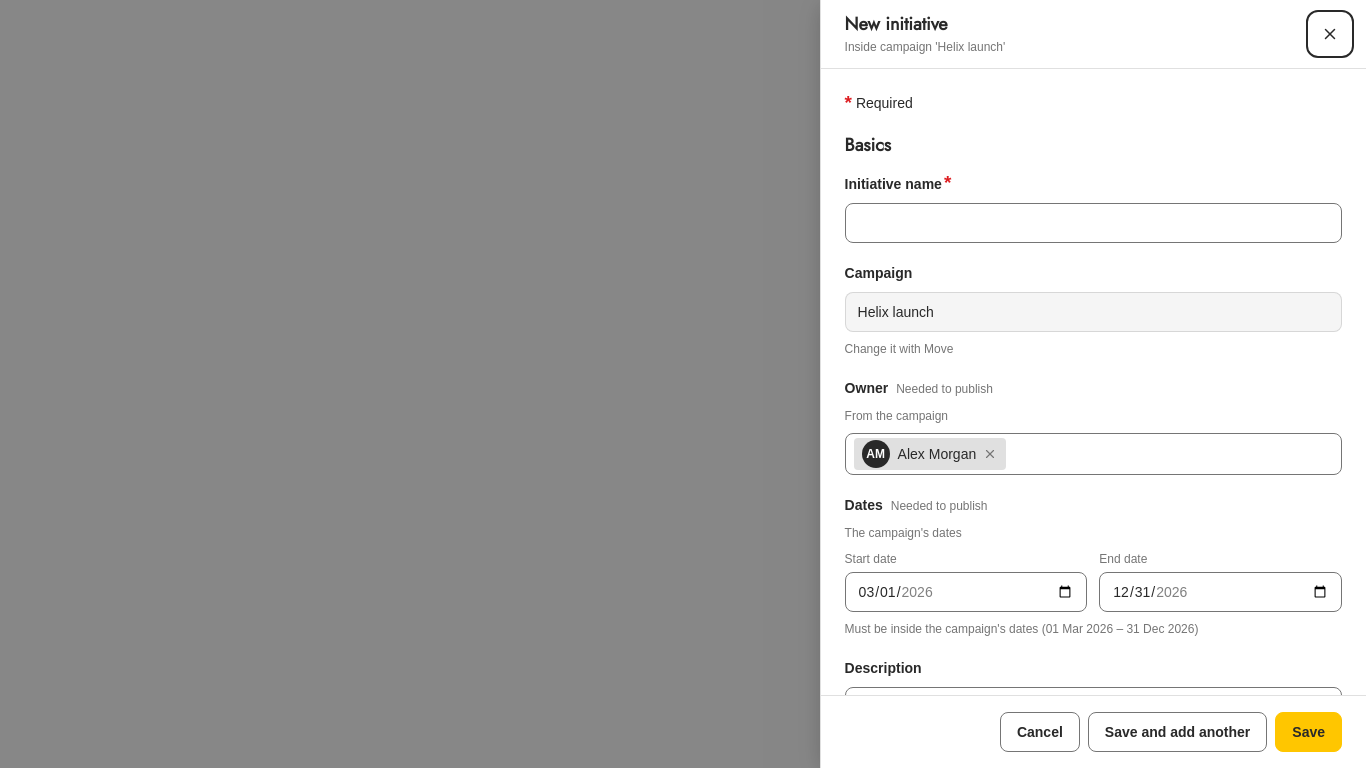
Test: NewInitiativePanel (feature 005, US2) › keeps the dates inside the campaign’s and shows the API’s R3 message under them (US2#2, FR-006)
Expected: the text "From the campaign" is shown, [845,409,948,423]
Expected: the text "Must be inside the campaign's dates (01 Mar 2026 – 31 Dec 2026)" is shown, [845,622,1198,636]
In the field labelled "Initiative name": (1093, 223) [845,203,1342,243], type "Early bird"
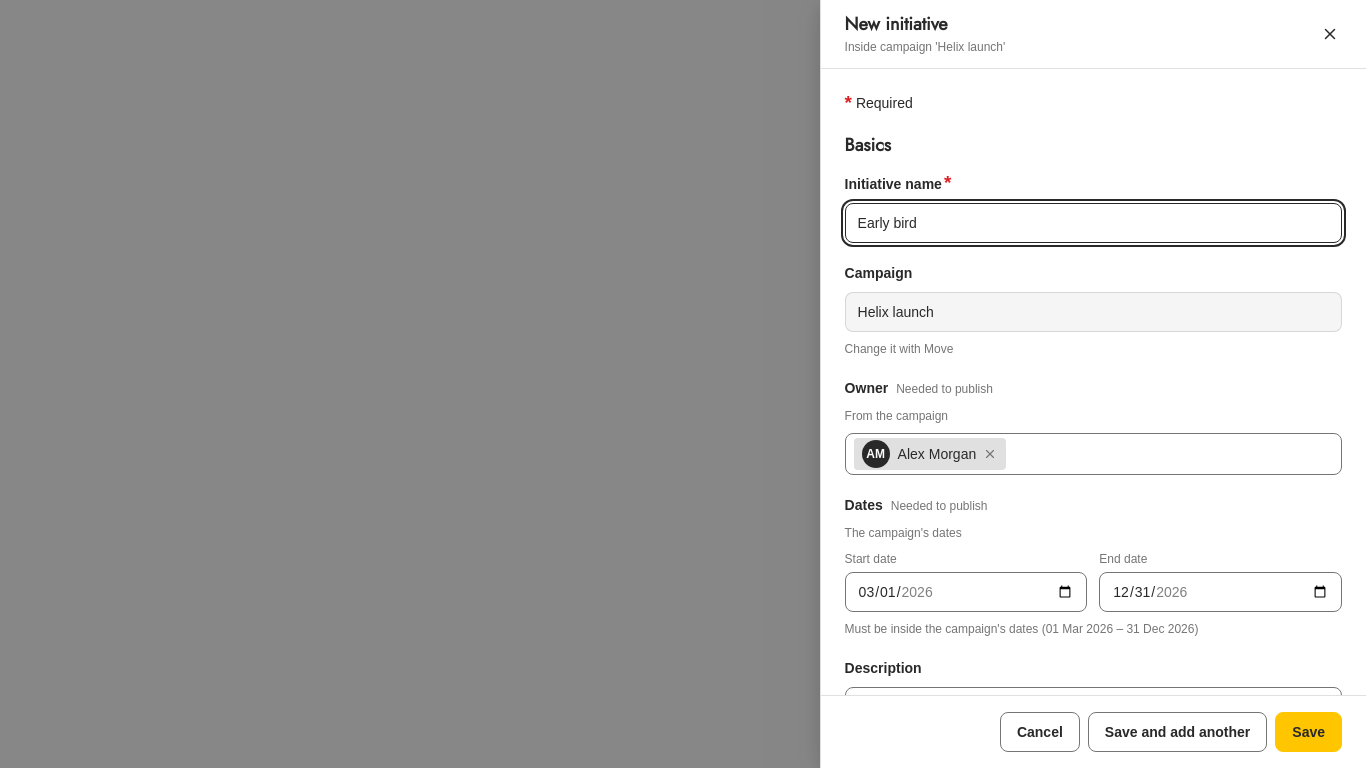
Click the button "Save": (1309, 732) [1275,712,1342,752]
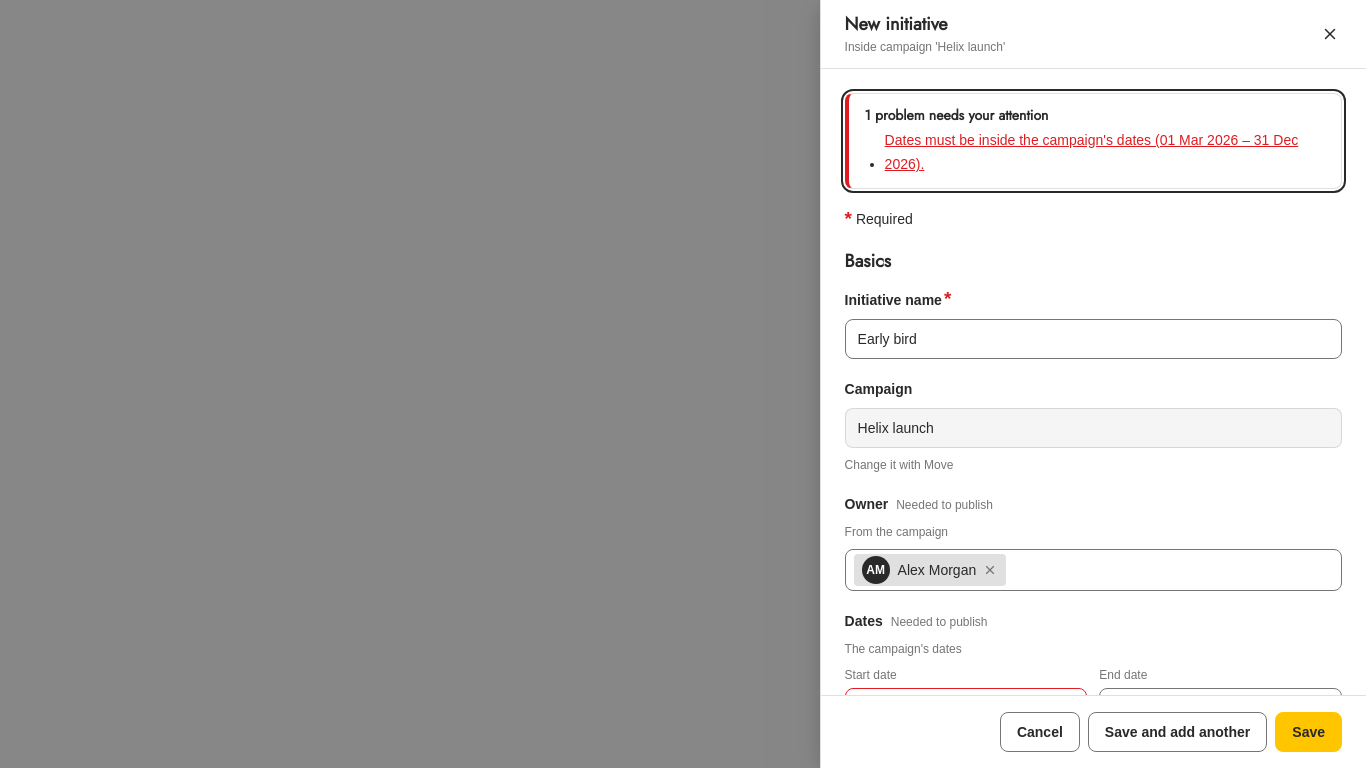
Expected: the heading "1 problem needs your attention" is shown, [865,105,1048,125]
